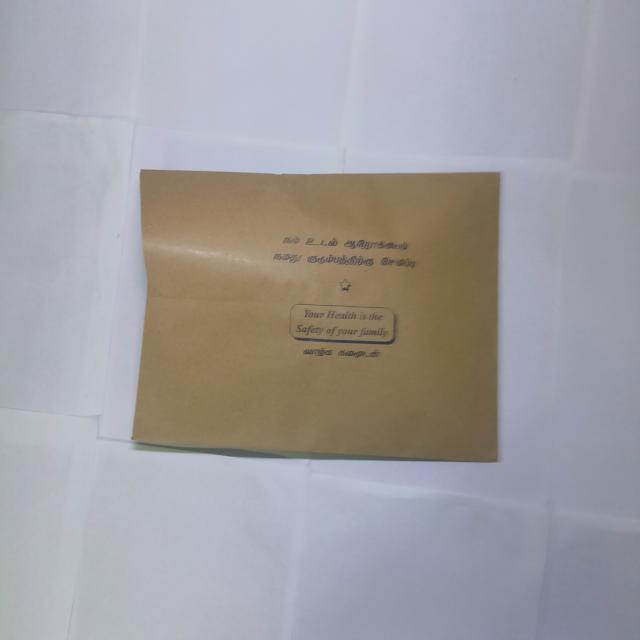box: (135, 173, 502, 463)
